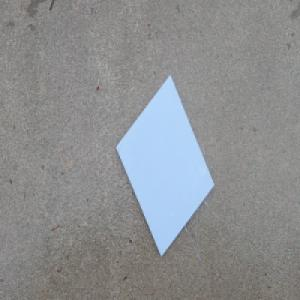PaintChip: (114, 72, 216, 260)
